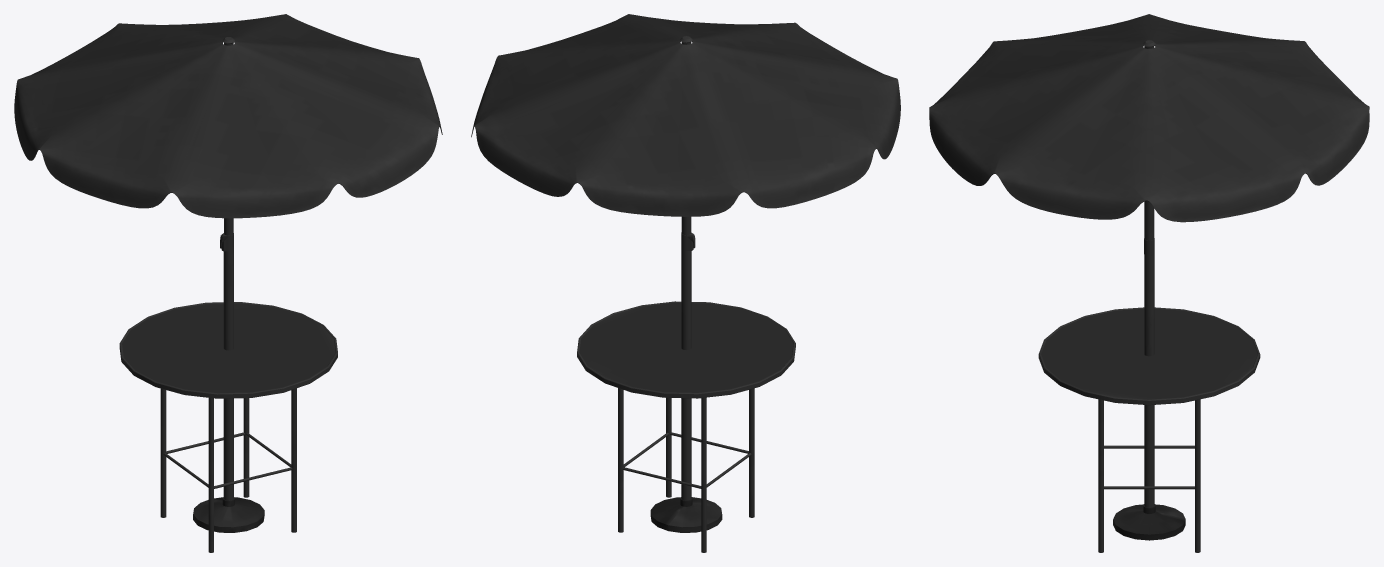
Rendered from Outdoor_Table.glb.
3 renders of one model, left to right at view 1: azimuth 30°, elevation 25°; view 2: azimuth 150°, elevation 25°; view 3: azimuth 270°, elevation 25°, orthographic.
Parts seen in each view (by area): view 1: Outdoor_Table; view 2: Outdoor_Table; view 3: Outdoor_Table.
Boxes of the visible parts, x1=… form: Outdoor_Table: x1=14, y1=14, x2=442, y2=552; Outdoor_Table: x1=471, y1=14, x2=900, y2=552; Outdoor_Table: x1=929, y1=14, x2=1369, y2=552.
Bounding box in the file's own units: 1.99 × 2.44 × 1.99.
Materials: 1 (1 with a texture image).
